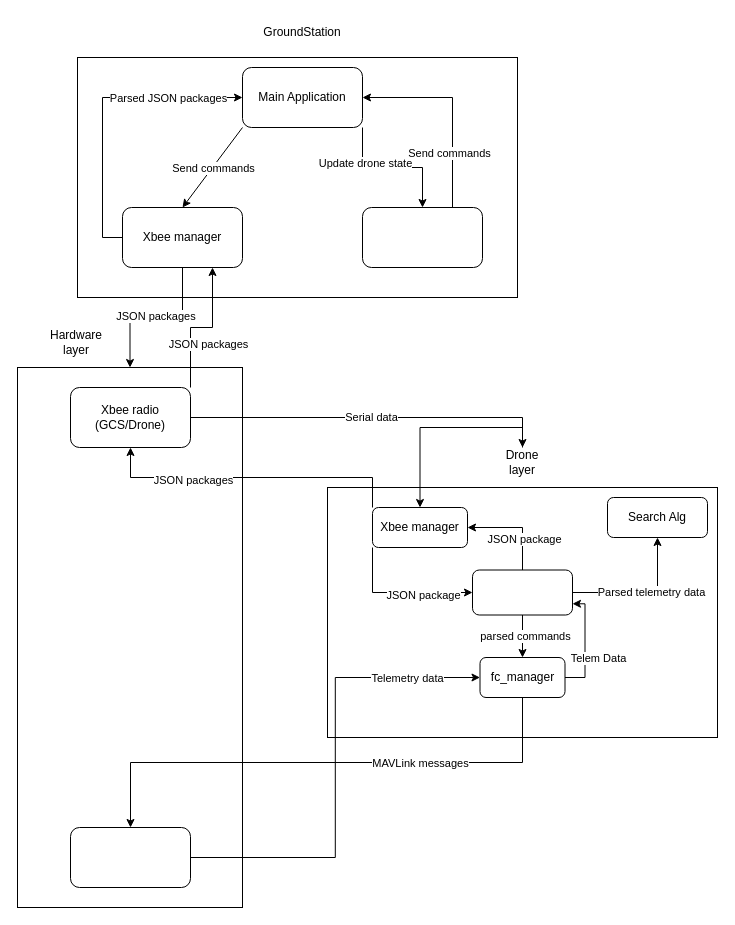
The diagram is 735 pixels wide and 925 high, and some of its shapes have lost their labels. Here are the shapes that lost their labels. From the top down, the centre of each, then its label:
pixel 422 237: GUI
pixel 522 592: Message router
pixel 130 857: Flight controller
